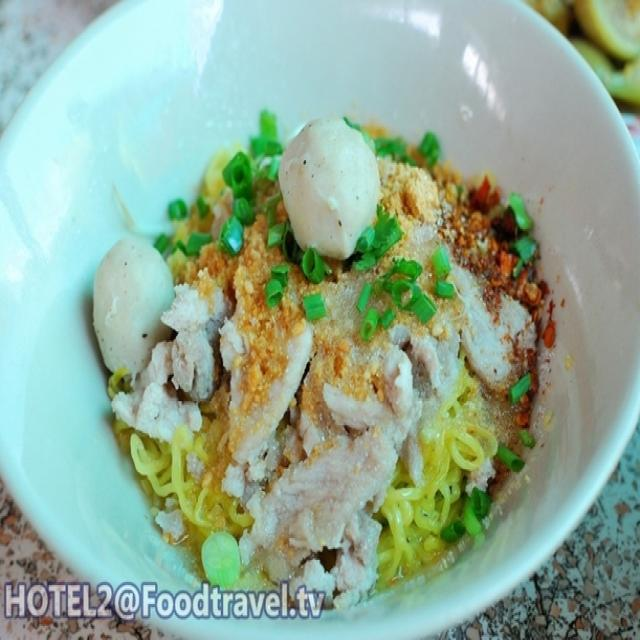猪肉菜式: (31, 20, 634, 623)
